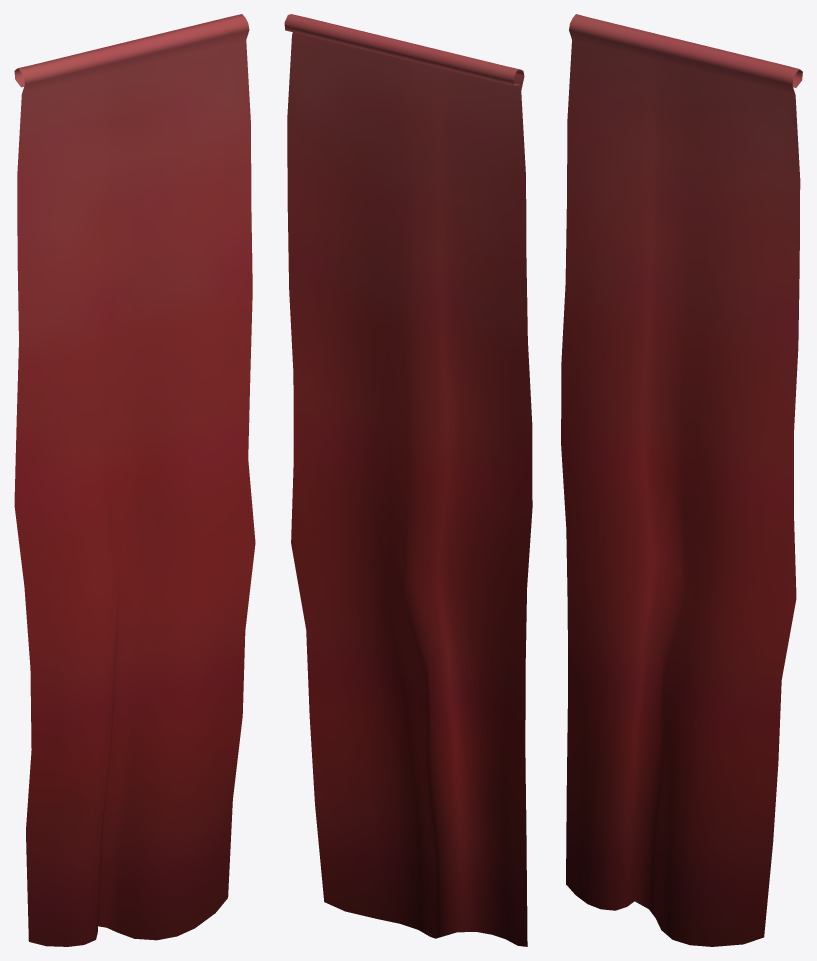
The model's file is M_HangingCloth_01.fbx.
3 renders of one model, left to right at view 1: azimuth 30°, elevation 25°; view 2: azimuth 150°, elevation 25°; view 3: azimuth 330°, elevation 25°, orthographic. The views are drawn at different scales.
Parts seen in each view (by area): view 1: M_HangingCloth_01; view 2: M_HangingCloth_01; view 3: M_HangingCloth_01.
Part boxes in pixels (bbox=[...]): M_HangingCloth_01: bbox=[14, 14, 255, 946]; M_HangingCloth_01: bbox=[284, 14, 532, 946]; M_HangingCloth_01: bbox=[561, 14, 802, 946].
Bounding box in the file's own units: 87.45 × 310 × 16.43.
1 material, 1 textured.
